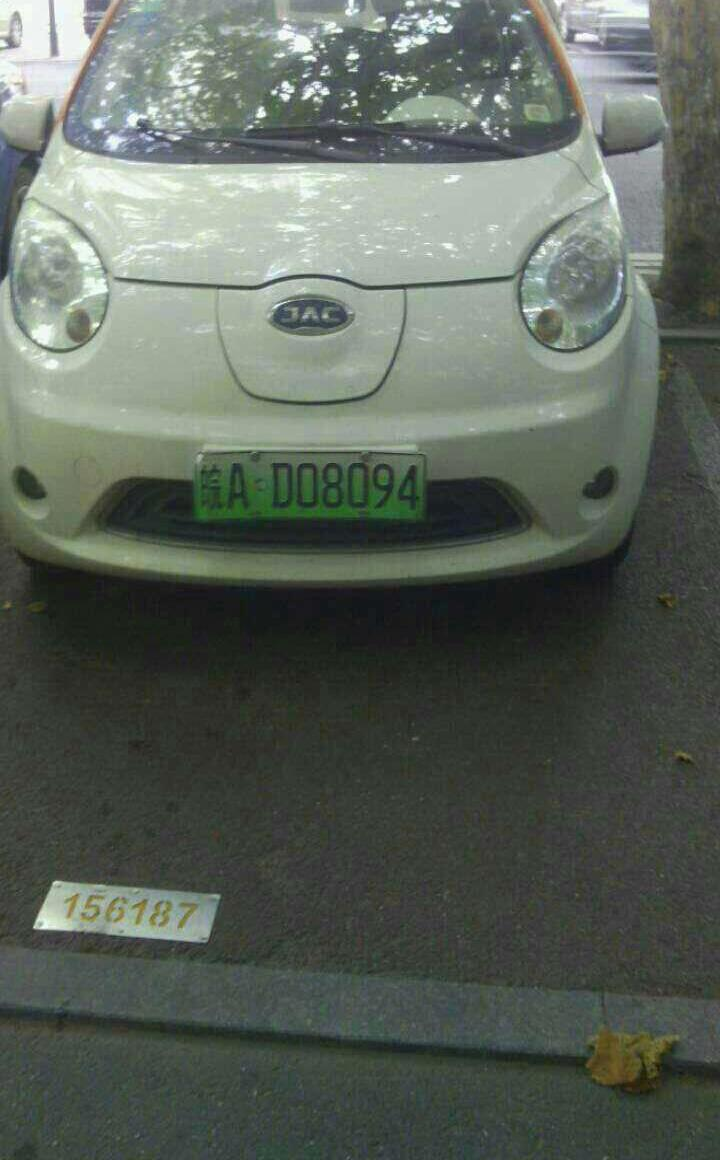car_id: (195, 448, 427, 529)
